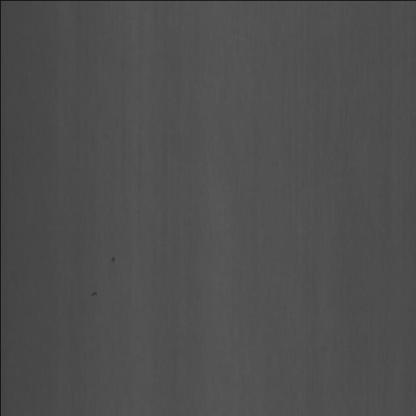inclusion: (106, 238, 122, 285), (83, 276, 102, 304)
